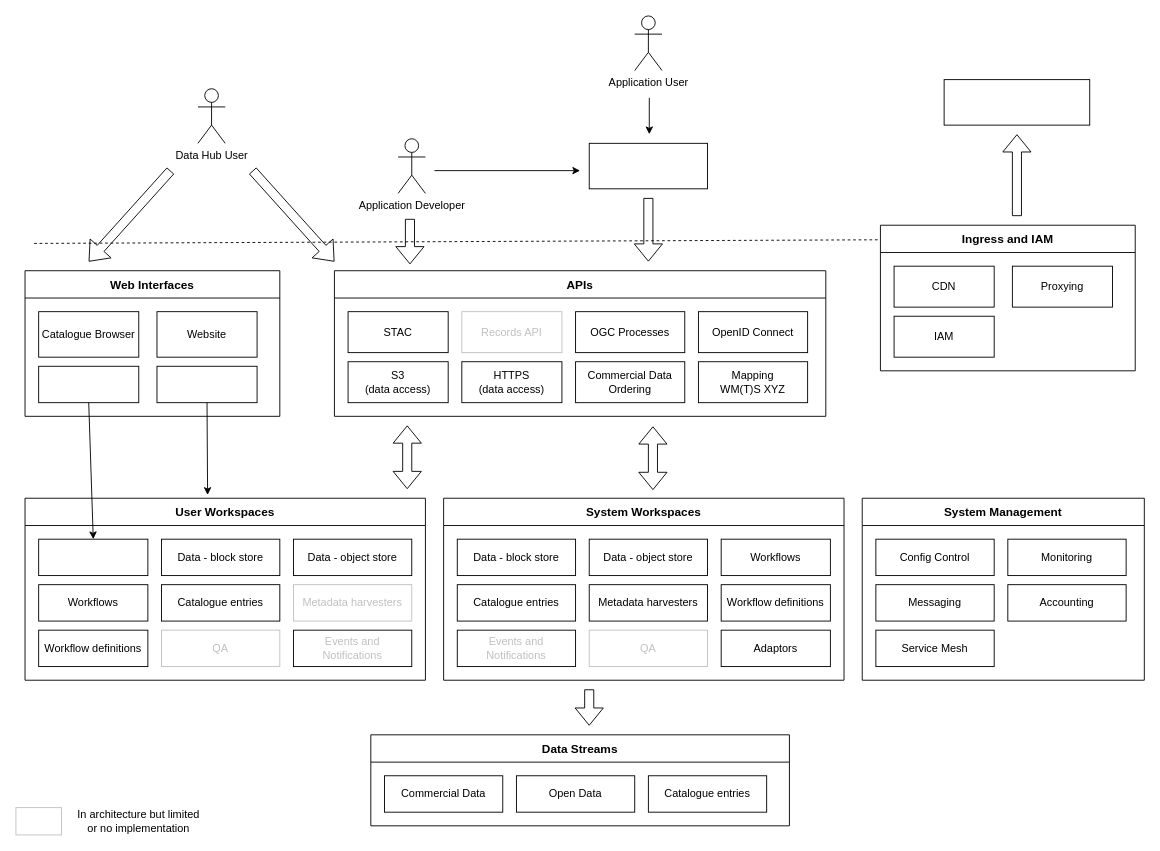
This 1160x851 diagram has some shape labels left out. The shapes that lost their labels are listed below. From the top down, each one's centre as x and y in pixels, then its label:
point 1016,102: Identity Providers
point 648,165: Application
point 88,384: JupyterHub UI
point 206,384: Workspace UI
point 93,557: Notebooks
